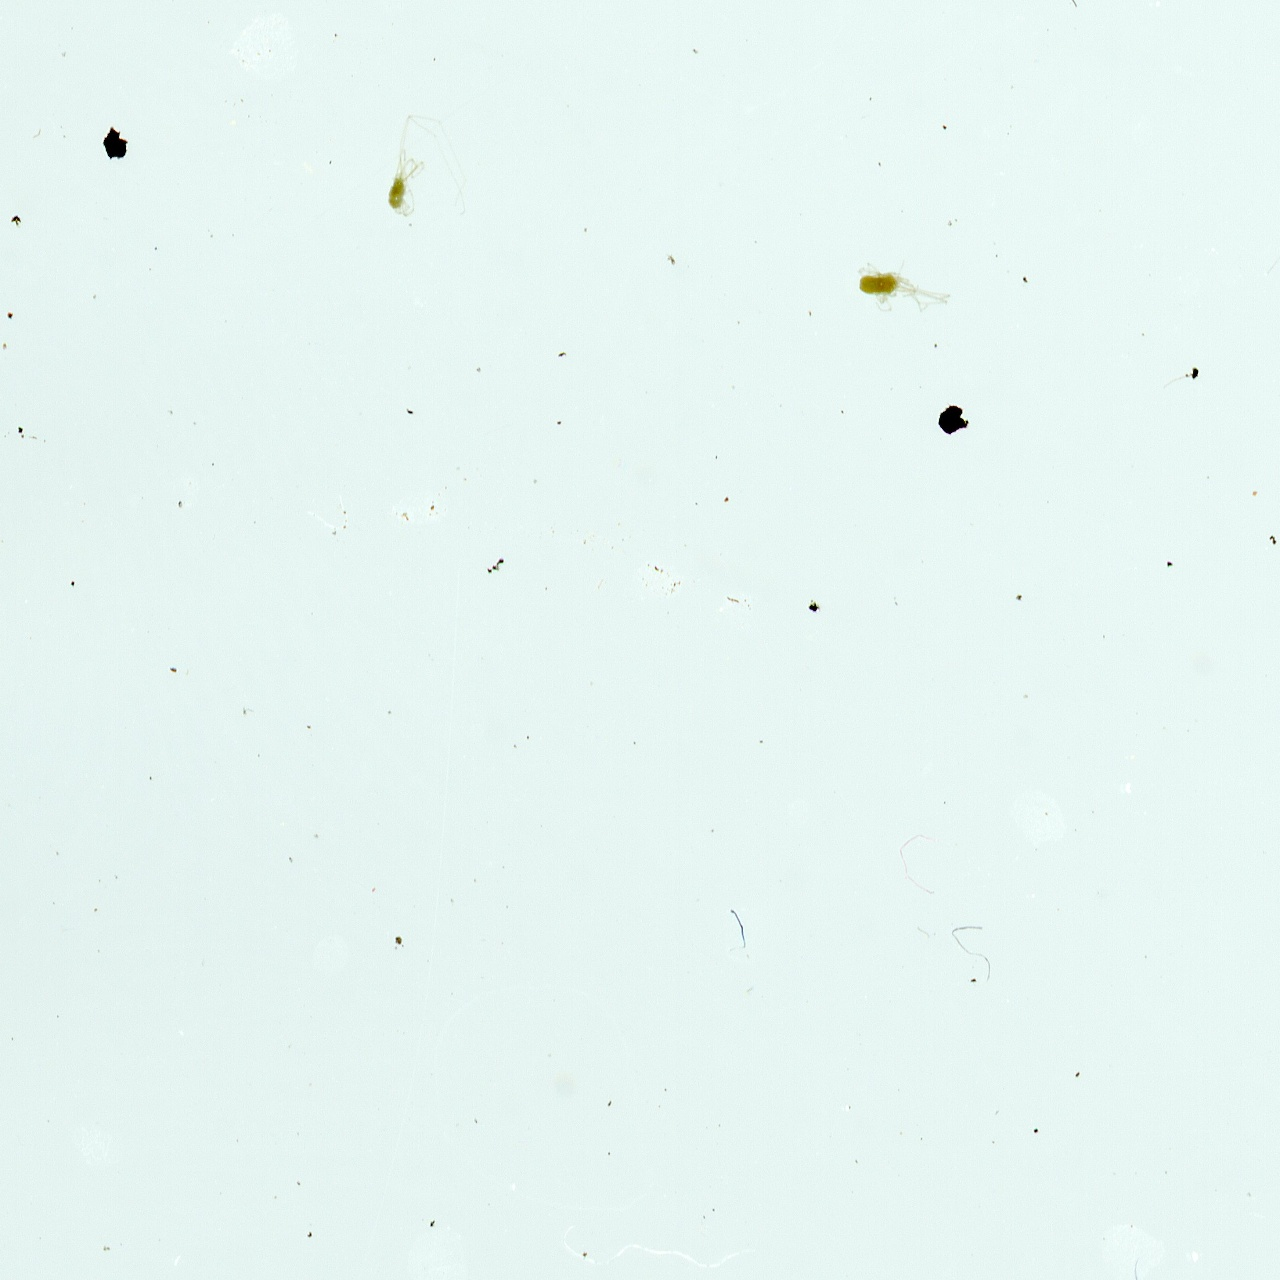arthropod: (386, 113, 473, 231), (854, 256, 957, 314)
